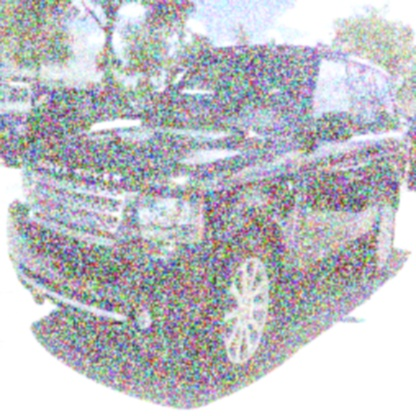Vehicle: (6, 45, 408, 385)
